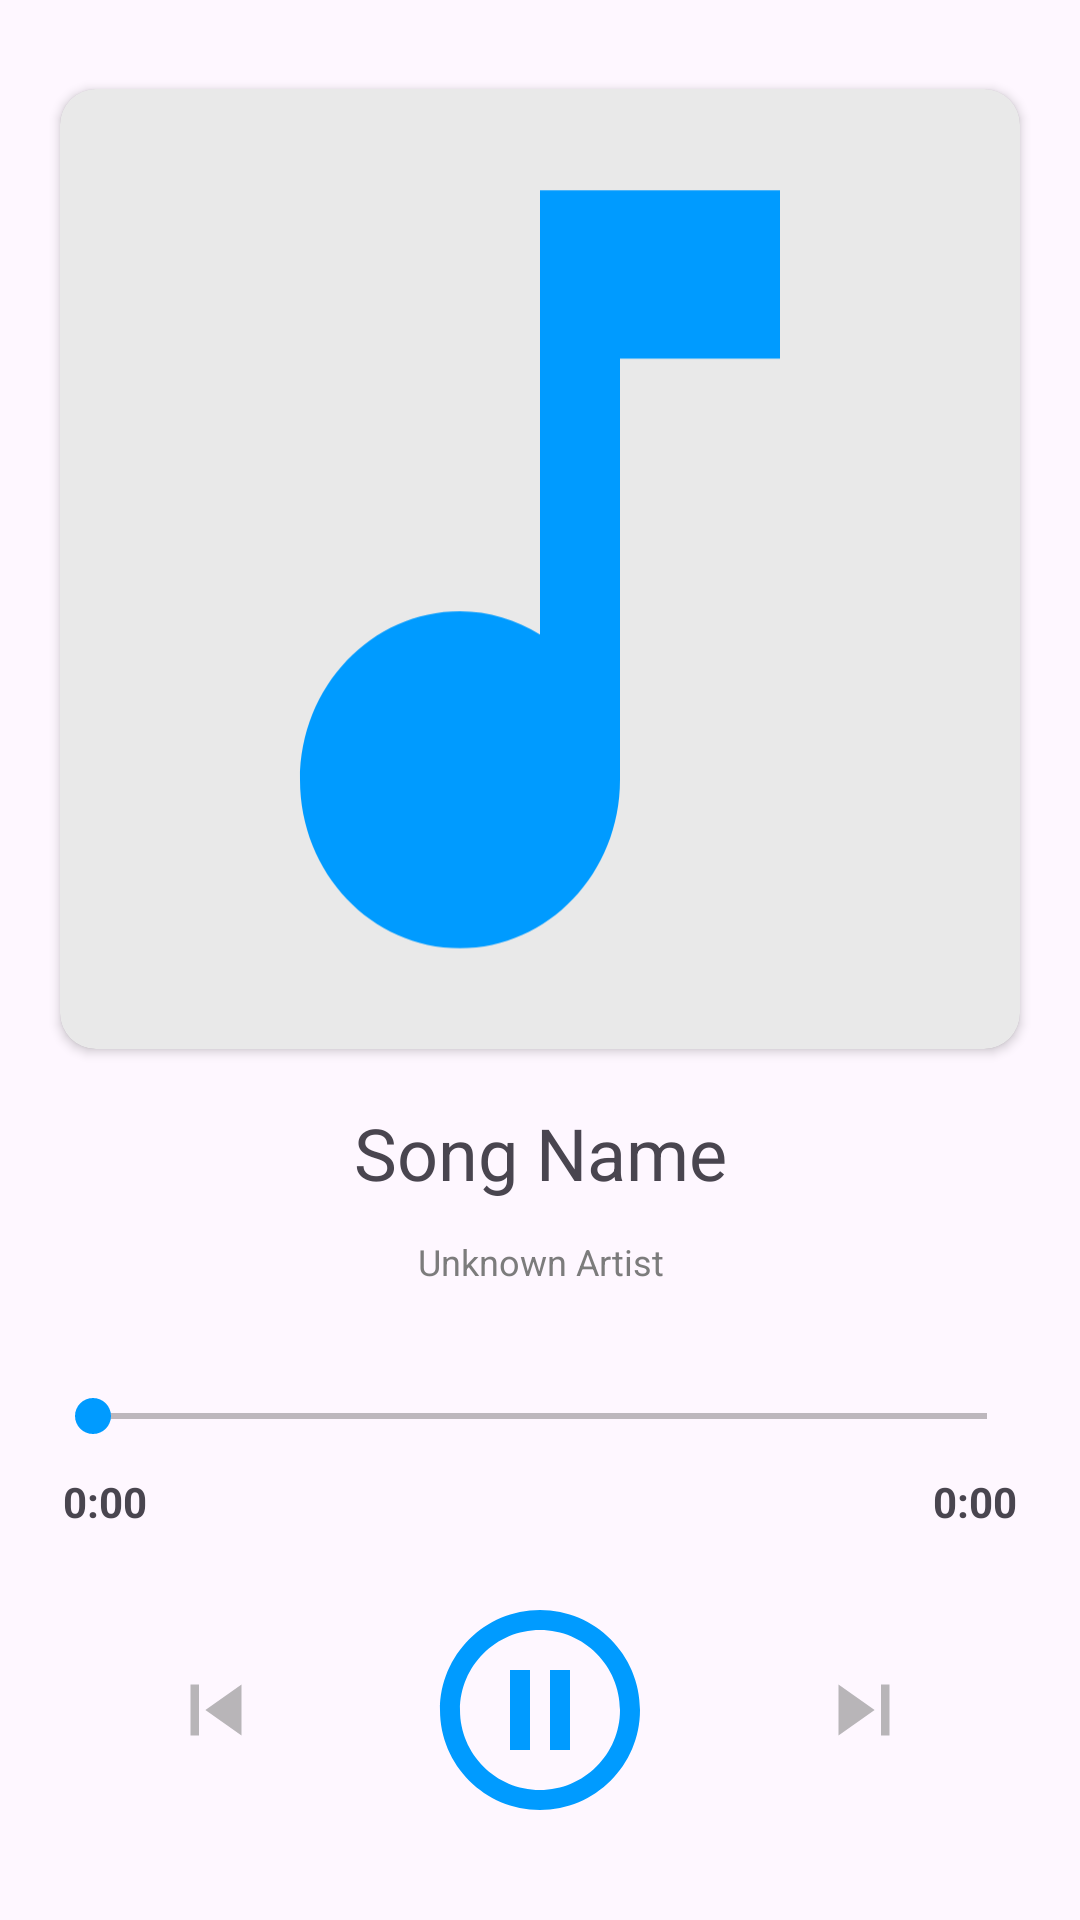

Screen size 1080 x 1920. Icon name, then its box in pixels as BBox(x1, y1, x2, y2):
pause circle: BBox(439, 1610, 640, 1810)
skip next: BBox(838, 1684, 890, 1736)
skip previous: BBox(190, 1684, 242, 1736)
